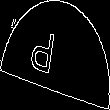P_S: (40, 26, 70, 84)
